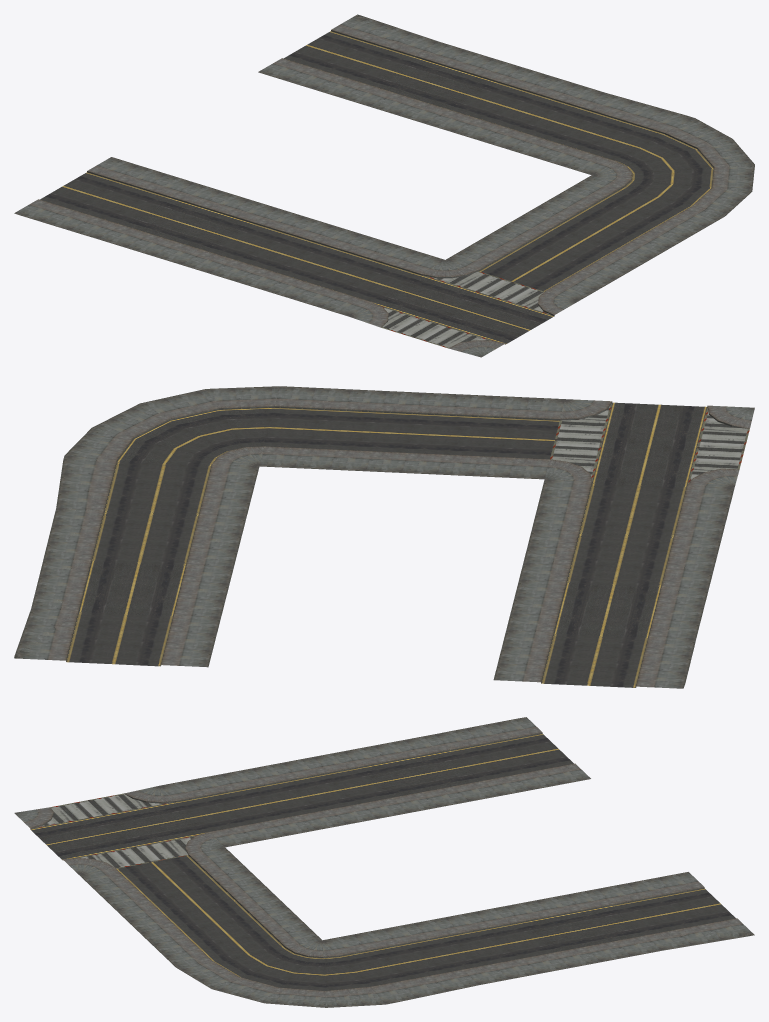
The model's file is cuntetownrd2.obj.
3 renders of one model, top to bottom at view 1: azimuth 30°, elevation 25°; view 2: azimuth 150°, elevation 25°; view 3: azimuth 270°, elevation 25°, orthographic. The views are drawn at different scales.
Parts seen in each view (by area): view 1: cuntetownrd2; view 2: cuntetownrd2; view 3: cuntetownrd2.
Part boxes in pixels (bbox=[...]): cuntetownrd2: bbox=[14, 14, 754, 357]; cuntetownrd2: bbox=[14, 386, 754, 688]; cuntetownrd2: bbox=[14, 717, 754, 1007].
Size of the model in its own units: 85.95 by 0.1646 by 92.54.
3 materials, 3 textured.
